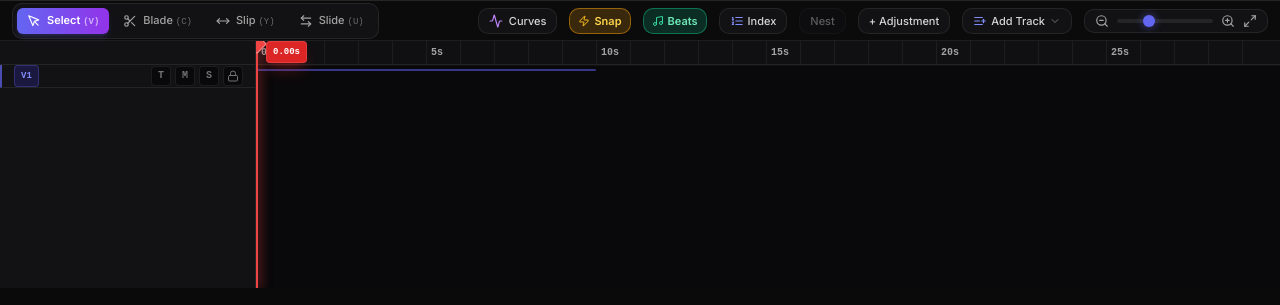
Test: TimelineTrackEditor R9.5 Features › opens context menu and mutes a clip
Right-click the text "Interview_Take1.mp4" at (426, 70), box 256,69 -> 596,71
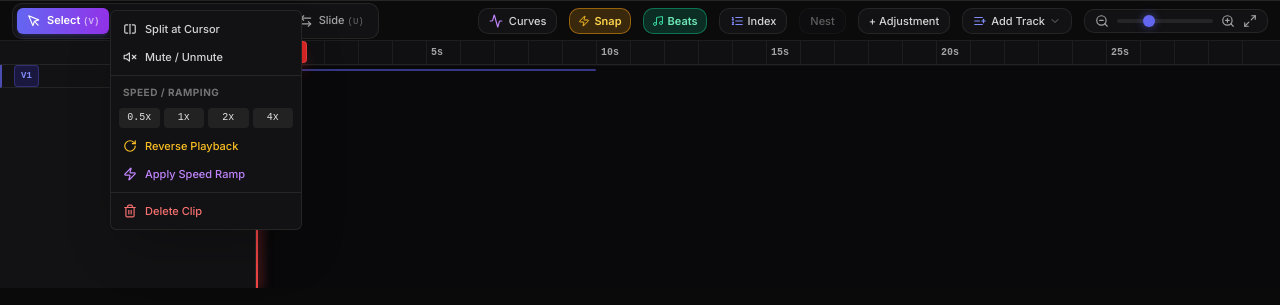
Now the text "Mute / Unmute" is shown, box 145,49 -> 223,65
Click the button "Mute / Unmute" at (206, 57), box 111,43 -> 301,71
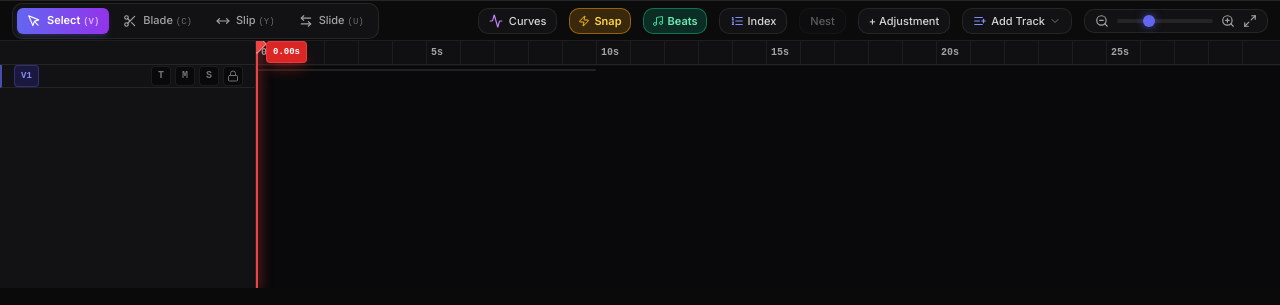
Now the button "Mute / Unmute" is gone
